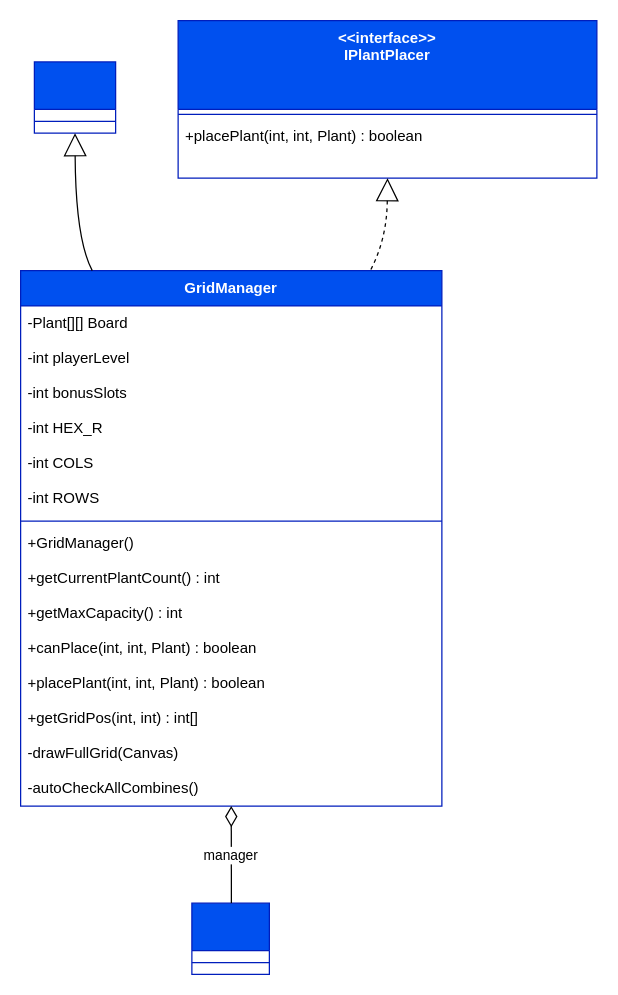
The diagram is 618 pixels wide and 995 high, and some of its shapes have lost their labels. Here are the shapes that lost their labels. From the top down, the box of each, then its label:
(33, 61, 116, 133): Actor
(191, 902, 269, 974): Plant
